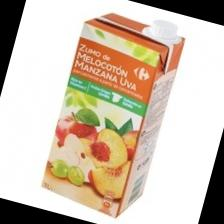Kertas: (42, 13, 183, 216)
